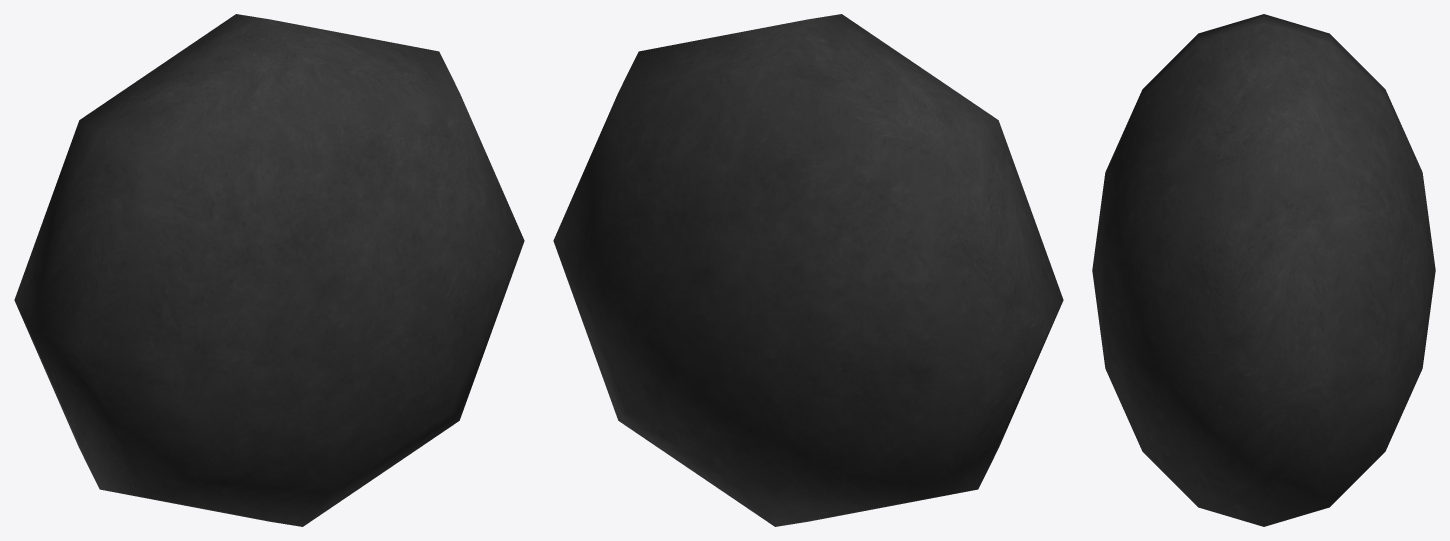
Rendered from OjoOrganoTexturizado.fbx.
3 renders of one model, left to right at view 1: azimuth 30°, elevation 25°; view 2: azimuth 150°, elevation 25°; view 3: azimuth 270°, elevation 25°, orthographic.
Parts seen in each view (by area): view 1: OrganoOjo; view 2: OrganoOjo; view 3: OrganoOjo.
Part boxes in pixels (box(x1,y1,x2,y2)): OrganoOjo: box(14, 14, 524, 526); OrganoOjo: box(553, 14, 1063, 526); OrganoOjo: box(1092, 14, 1435, 526).
Size of the model in its own units: 0.4405 by 0.4405 by 0.2771.
Materials: 1 (1 with a texture image).
